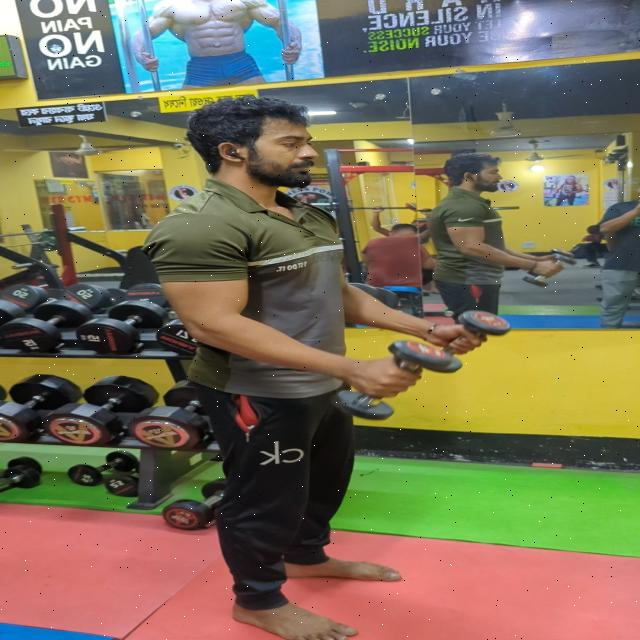Normal_DumbbellBicepCurls: (85, 110, 519, 640)
